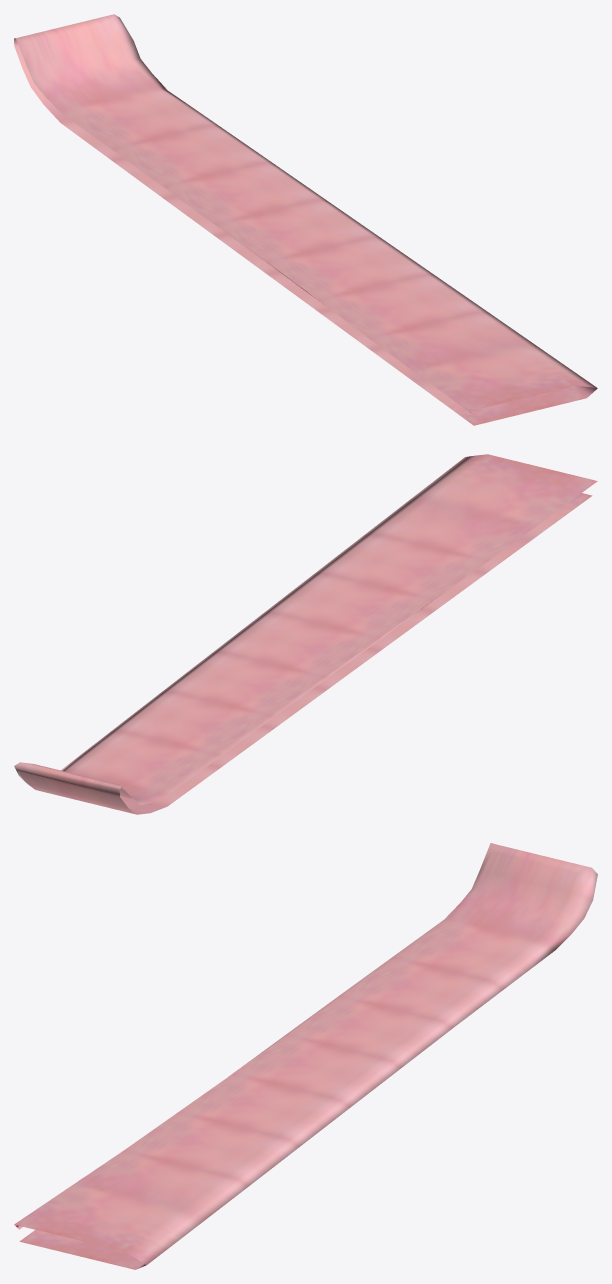
File: Tongue_AnimForward.fbx
3 renders of one model, top to bottom at view 1: azimuth 30°, elevation 25°; view 2: azimuth 150°, elevation 25°; view 3: azimuth 330°, elevation 25°, orthographic. The views are drawn at different scales.
Visible parts, largest first — view 1: Chameleon_Tongue; view 2: Chameleon_Tongue; view 3: Chameleon_Tongue.
Boxes of the visible parts, x1,y1,x2,y2 form: Chameleon_Tongue: (14,14,597,425); Chameleon_Tongue: (14,454,597,814); Chameleon_Tongue: (14,843,597,1269).
Size of the model in its own units: 0.7917 by 0.3055 by 4.88.
